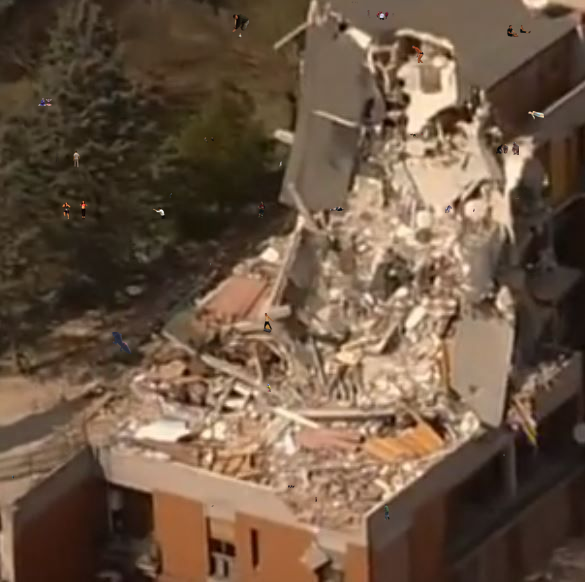Human: (263, 313, 289, 333), (62, 200, 88, 220), (112, 332, 135, 354), (411, 43, 435, 63), (56, 150, 80, 168), (232, 13, 252, 32), (366, 10, 400, 20), (496, 142, 519, 155), (507, 25, 531, 37), (152, 206, 169, 219), (257, 201, 266, 219), (528, 111, 544, 120), (383, 504, 390, 520), (38, 98, 52, 106), (410, 132, 423, 138), (330, 206, 344, 211), (204, 137, 214, 143), (445, 205, 452, 213), (266, 384, 271, 392), (236, 33, 242, 39), (288, 485, 295, 488), (351, 1, 358, 4), (168, 193, 172, 198), (515, 196, 521, 199), (279, 161, 282, 167), (315, 497, 317, 502), (12, 475, 14, 479), (473, 208, 475, 212), (211, 505, 214, 507), (503, 454, 505, 456), (210, 263, 211, 266)
